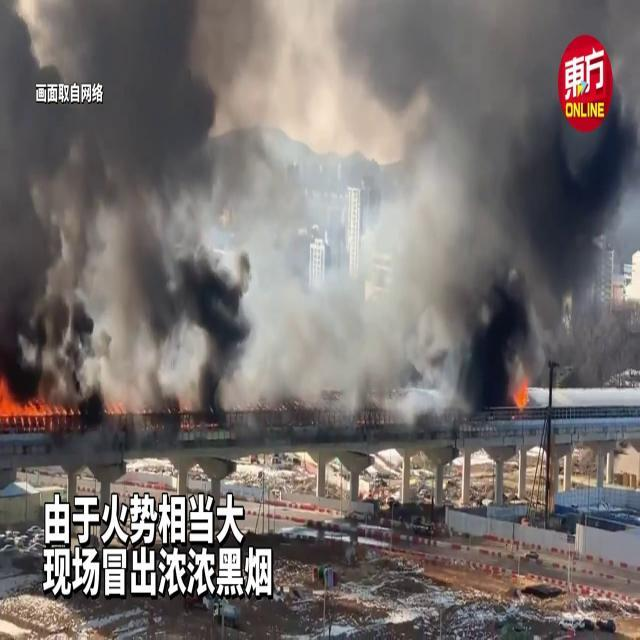Fire: (0, 375, 66, 427), (510, 369, 534, 415)
Smoke: (3, 2, 637, 426)
